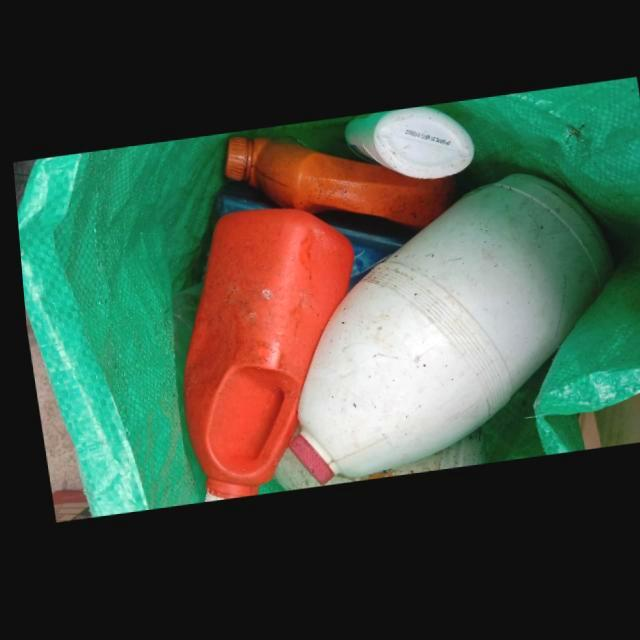plastic_bottle: (282, 179, 609, 488), (175, 211, 349, 503), (221, 139, 456, 234), (341, 111, 471, 185)
